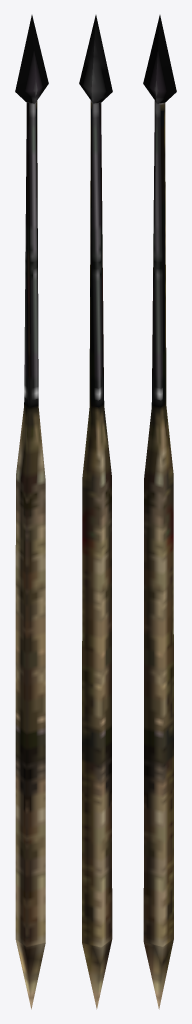
Rendered from verutum2.dae.
The picture shows the model from 3 angles, left to right: view 1: azimuth 30°, elevation 25°; view 2: azimuth 150°, elevation 25°; view 3: azimuth 330°, elevation 25°; orthographic projection.
Visible parts, largest first — view 1: pillum009; view 2: pillum009; view 3: pillum009.
Boxes of the visible parts, x1,y1,x2,y2 form: pillum009: [15, 15, 48, 1009]; pillum009: [79, 15, 112, 1009]; pillum009: [143, 15, 176, 1009].
Size of the model in its own units: 0.115 by 0.0651 by 3.24.
